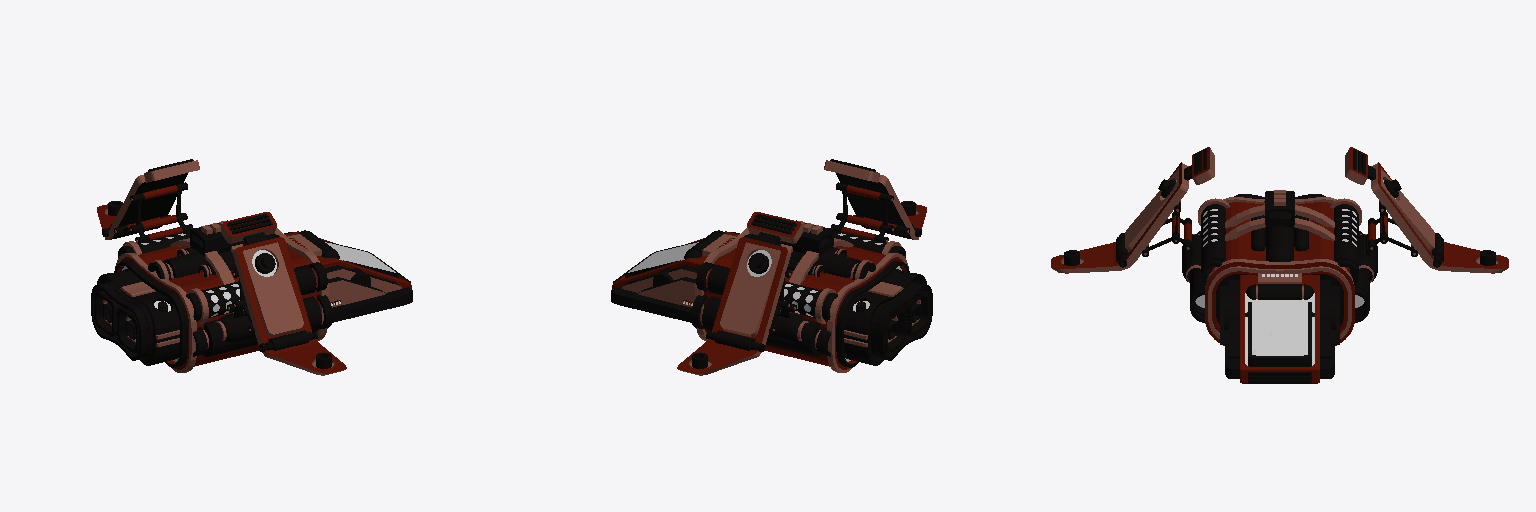
File: ChocolateShip.obj
3 renders of one model, left to right at view 1: azimuth 30°, elevation 25°; view 2: azimuth 150°, elevation 25°; view 3: azimuth 270°, elevation 25°, orthographic.
Visible parts, largest first — view 1: Mesh; view 2: Mesh; view 3: Mesh.
Part boxes in pixels (x1,y1,x2,y2): Mesh: (91,159,412,375); Mesh: (611,159,932,375); Mesh: (1051,147,1508,383).
Size of the model in its own units: 22.42 by 11.66 by 31.74.